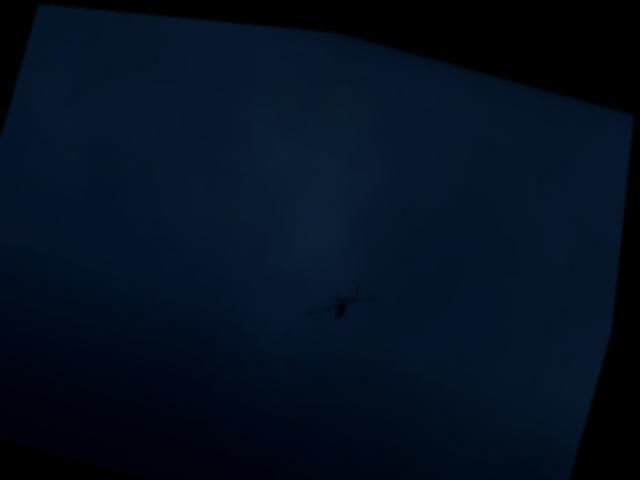iha: (308, 259, 387, 325)
